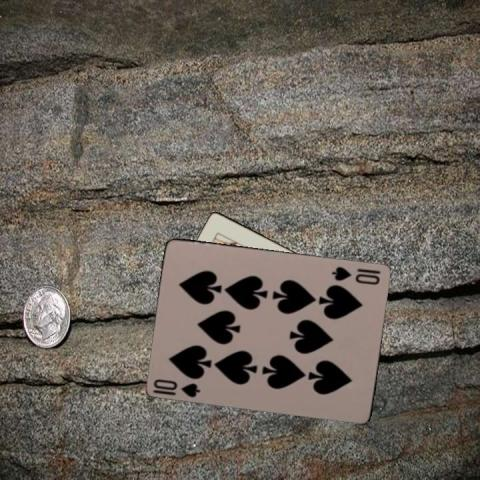10s: (330, 263, 382, 286), (150, 376, 202, 399)
